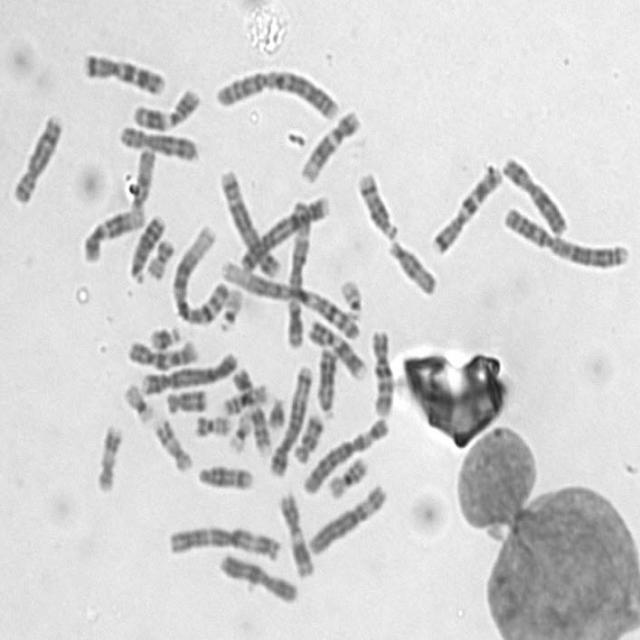A1: (214, 253, 364, 341), (167, 218, 230, 327)
A2: (497, 198, 633, 270), (208, 60, 342, 120)
A3: (279, 191, 314, 349), (162, 518, 284, 562)
B4: (233, 189, 332, 275), (136, 345, 238, 395)
B5: (213, 160, 283, 278), (265, 358, 314, 477)
C10: (364, 321, 396, 419), (122, 332, 201, 370)
C11: (273, 485, 316, 579), (128, 81, 202, 131)
C12: (294, 102, 362, 184), (77, 200, 146, 264)
C6: (296, 410, 391, 496), (302, 476, 390, 557)
C7: (424, 157, 504, 256), (76, 45, 168, 96)
C8: (6, 106, 65, 206), (113, 117, 201, 163)
C9: (302, 311, 367, 381), (227, 360, 273, 456)
D13: (124, 207, 167, 284), (311, 340, 339, 419)
D14: (350, 164, 400, 241), (192, 457, 256, 492)
D15: (382, 232, 440, 296), (126, 140, 156, 213)
E16: (322, 449, 370, 500), (218, 378, 270, 416)
E17: (148, 410, 194, 473), (89, 417, 124, 494)
E18: (288, 405, 326, 464), (160, 382, 209, 414)
F19: (118, 375, 156, 426), (223, 404, 255, 454)
F20: (141, 231, 176, 281), (189, 406, 234, 438)
G21: (142, 318, 182, 351), (262, 389, 288, 431)
G22: (213, 281, 244, 332), (336, 270, 364, 319)
X: (496, 148, 570, 237), (213, 546, 300, 605)
